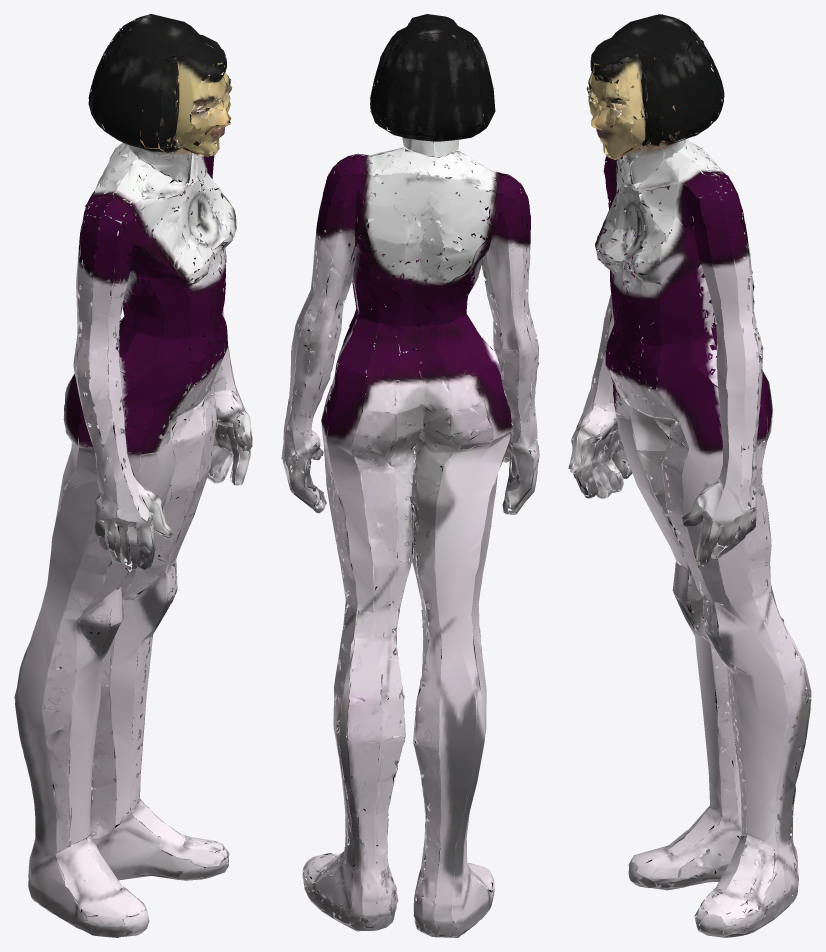
The model's file is dupli-kate.hq.glb.
The picture shows the model from 3 angles, left to right: view 1: azimuth 30°, elevation 25°; view 2: azimuth 150°, elevation 25°; view 3: azimuth 270°, elevation 25°; orthographic projection. The views are drawn at different scales.
Visible parts, largest first — view 1: low; view 2: low; view 3: low.
Part boxes in pixels (x1=…): low: x1=14, y1=14, x2=252, y2=937; low: x1=281, y1=14, x2=539, y2=937; low: x1=568, y1=14, x2=811, y2=937.
Size of the model in its own units: 0.2218 by 0.8732 by 0.2186.
1 material, 1 textured.
